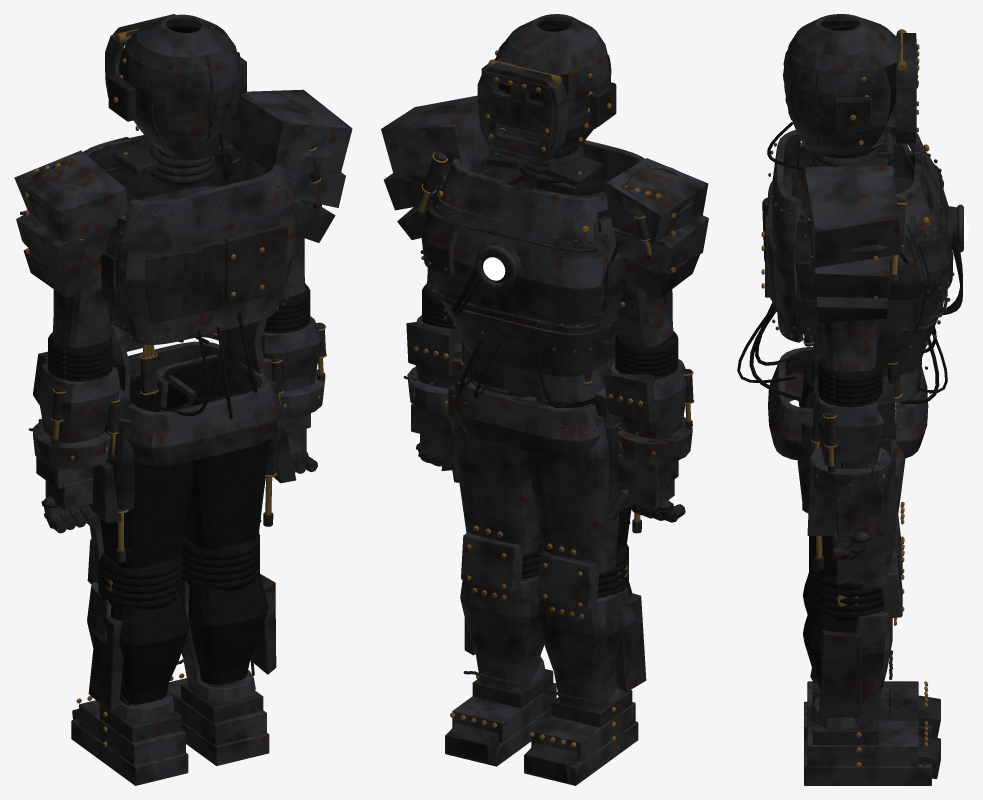
3 views of the same model, side by side, from view 1: azimuth 30°, elevation 25°; view 2: azimuth 150°, elevation 25°; view 3: azimuth 270°, elevation 25° (orthographic). The views are drawn at different scales.
Parts seen in each view (by area): view 1: back, helmet, thighR, thighL, pauldronL, pauldronR, pelvis, shinR, shinL, bootR, bootL, forearmR (+21 smaller); view 2: chest, abdomen, pauldronR, thighR, shinR, pauldronL, thighL, helmet, shinL, faceplate, pelvis, bootR (+19 smaller); view 3: pauldronL, helmet, bootL, shinL, thighL, back, abdomen, chest, pelvis, forearmL, ribL, kneeL (+12 smaller).
Boxes of the visible parts, x1,y1,x2,y2 form: back: (117, 165, 296, 344); helmet: (115, 14, 242, 180); thighR: (89, 371, 195, 569); thighL: (152, 354, 296, 549); pauldronL: (224, 89, 352, 242); pauldronR: (14, 150, 128, 297); pelvis: (124, 341, 281, 465); shinR: (87, 582, 189, 712); shinL: (177, 574, 276, 691); bootR: (71, 690, 188, 785); bootL: (167, 670, 269, 765); forearmR: (33, 351, 120, 445); chest: (420, 172, 604, 333); abdomen: (440, 299, 617, 408); pauldronR: (597, 158, 708, 299); thighR: (527, 396, 641, 573); shinR: (537, 582, 646, 710); pauldronL: (381, 95, 525, 239); thighL: (441, 381, 568, 554); helmet: (488, 14, 611, 156); shinL: (460, 576, 544, 691); faceplate: (477, 60, 568, 163); pelvis: (452, 377, 600, 458); bootR: (524, 686, 638, 785); pauldronL: (804, 166, 909, 323); helmet: (767, 14, 906, 169); bootL: (804, 696, 940, 785); shinL: (803, 606, 896, 729); thighL: (797, 391, 905, 588); back: (761, 130, 805, 342); abdomen: (737, 303, 947, 403); chest: (904, 141, 954, 327); pelvis: (768, 347, 931, 460); forearmL: (813, 382, 896, 471); ribL: (789, 219, 927, 335); kneeL: (809, 547, 904, 621).
Bounding box in the file's own units: 0.8357 × 1.95 × 0.5604.
Materials: 5 (4 with a texture image).
